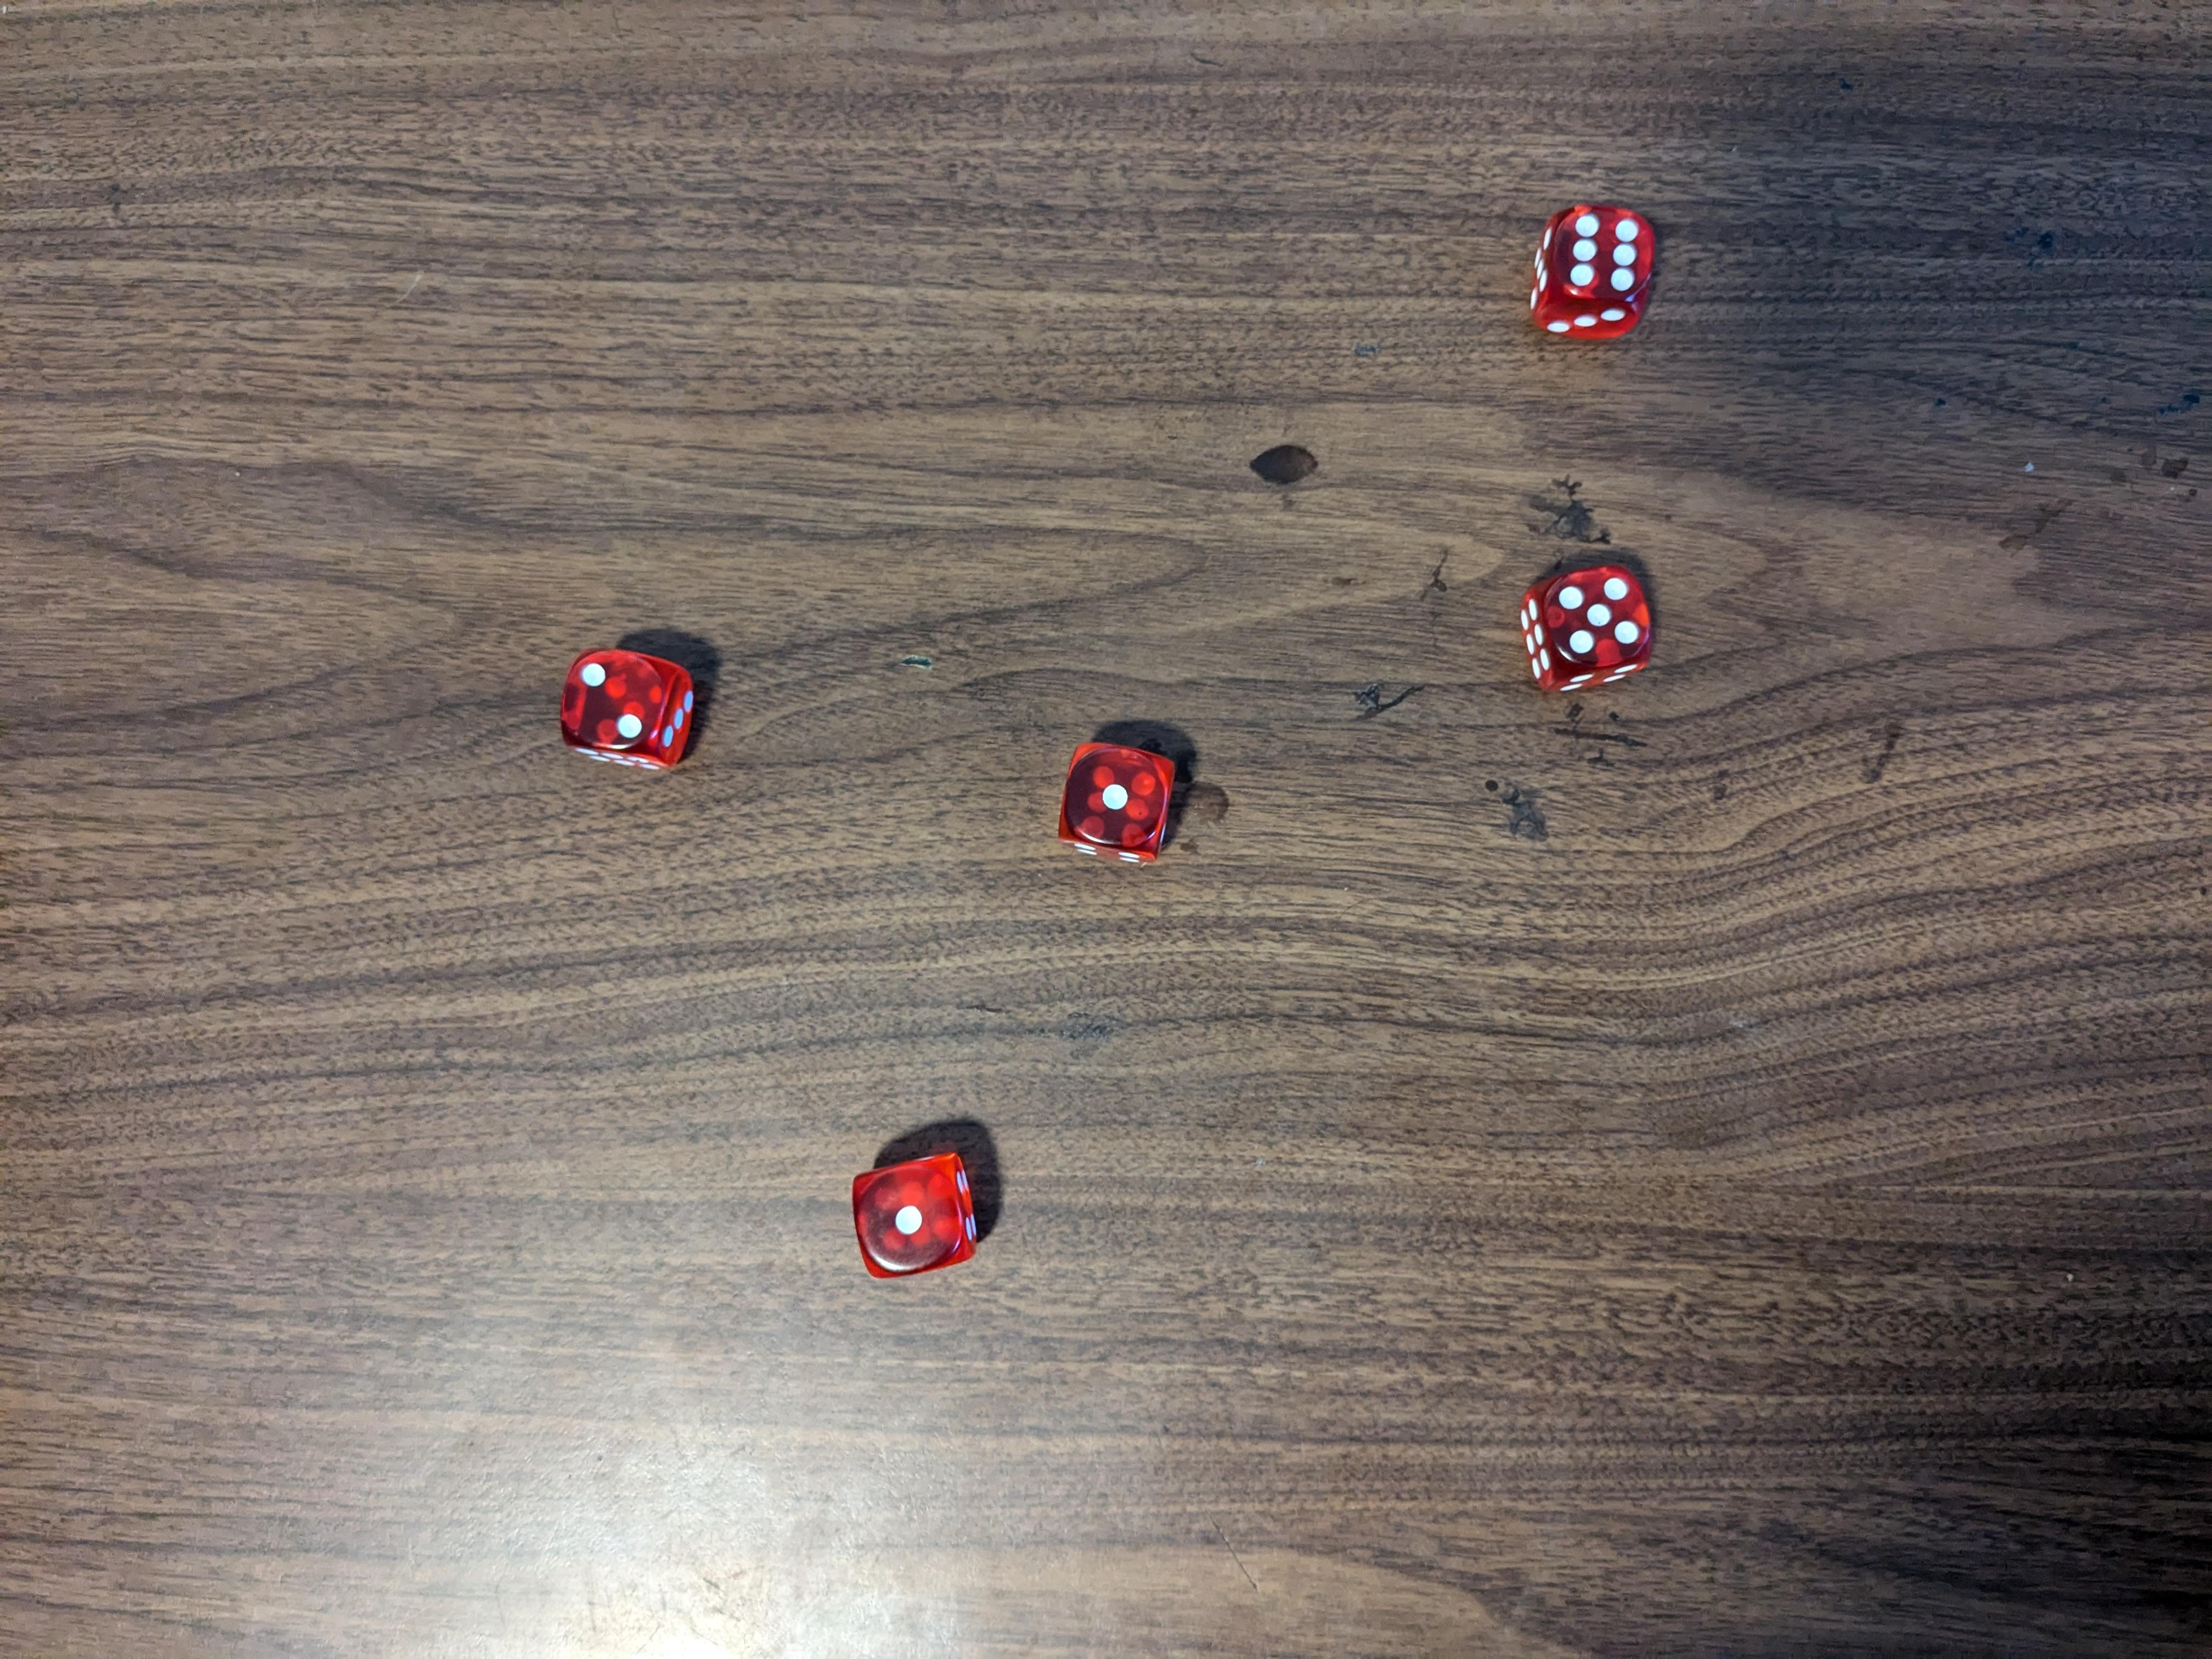five: (1514, 554, 1662, 692)
one: (853, 1148, 982, 1279), (1059, 728, 1179, 866)
six: (1521, 195, 1667, 345)
two: (554, 647, 695, 774)
